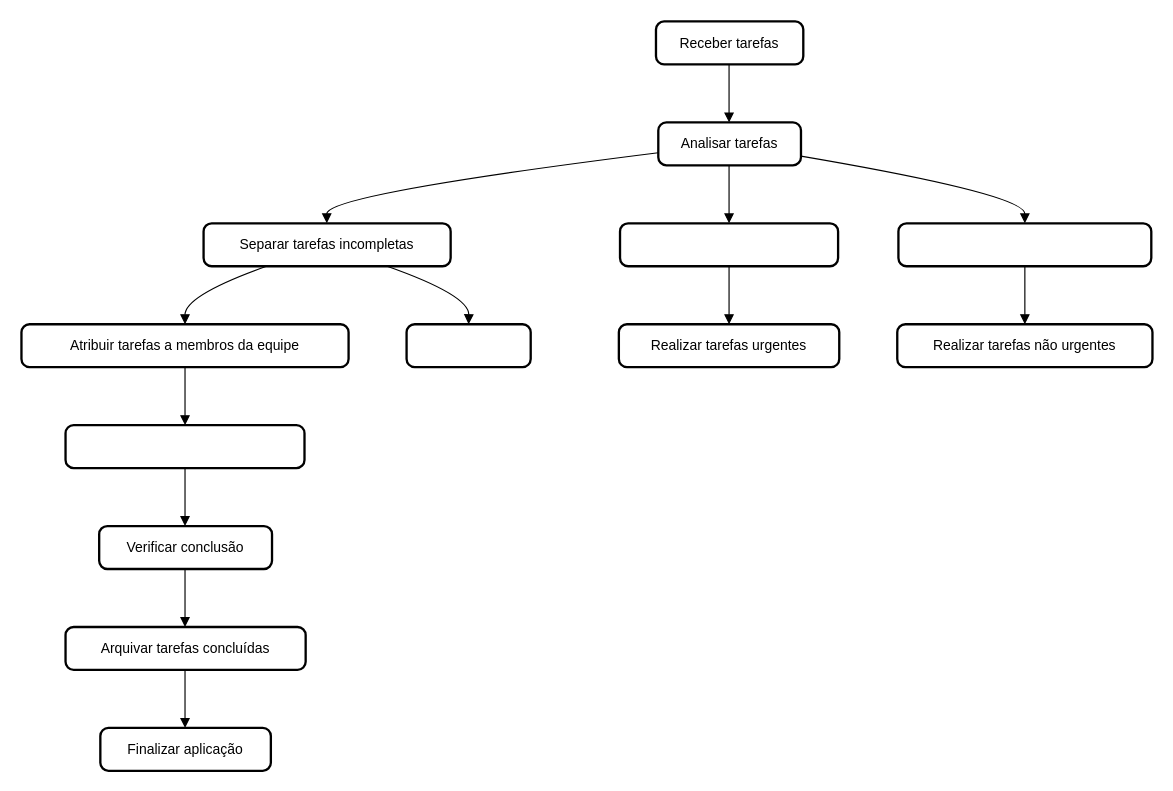
Image size: 1173x791. Some labels were removed from this diagram. The shapes that lost their labels are listed below. From the top down, each one's box as (x1, y1, x2, y2) in pixels, then its label:
(618, 222, 839, 267): Separar tarefas urgentes
(897, 222, 1152, 267): Separar tarefas não urgentes
(405, 322, 531, 368): Rever prazos
(64, 423, 305, 469): Executar tarefas atribuídas
